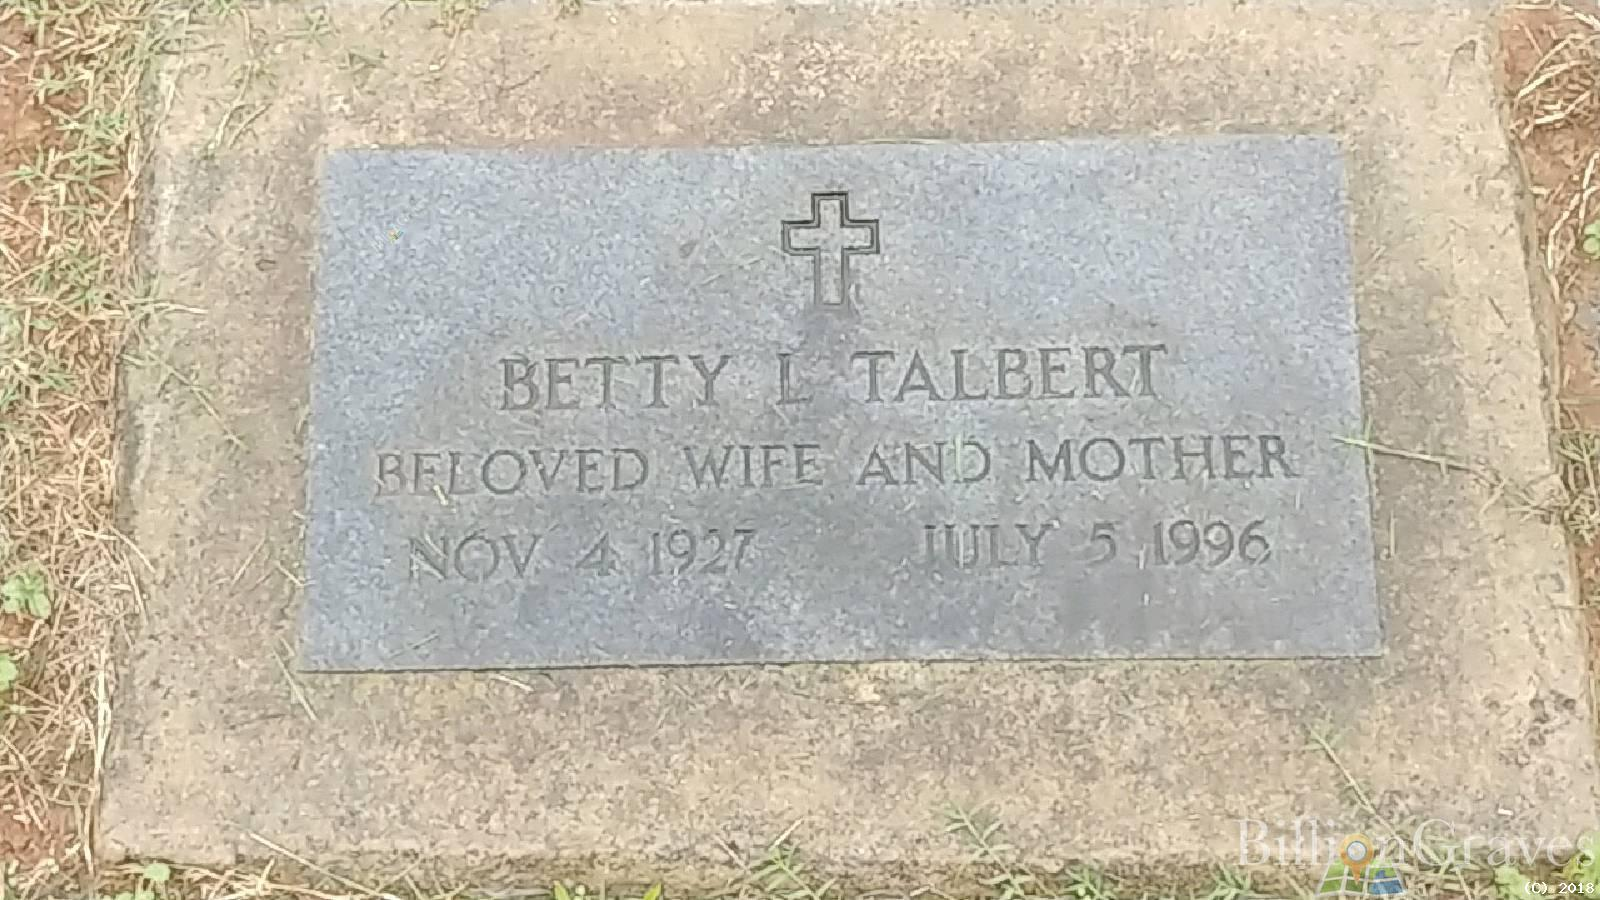flat: (116, 12, 1598, 865)
